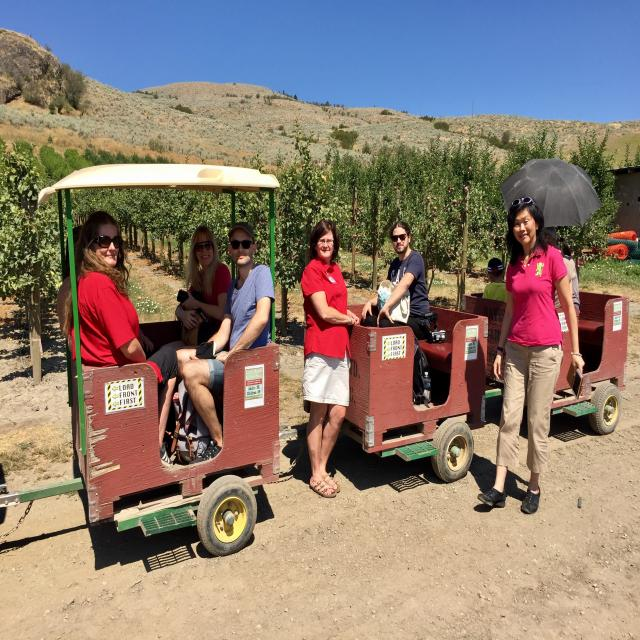body: (476, 195, 586, 515), (62, 210, 180, 470), (176, 222, 274, 468), (300, 217, 360, 500), (158, 225, 232, 351), (359, 220, 431, 343), (542, 224, 582, 324), (481, 257, 508, 302), (64, 225, 88, 274), (135, 326, 156, 354), (376, 120, 380, 125)
